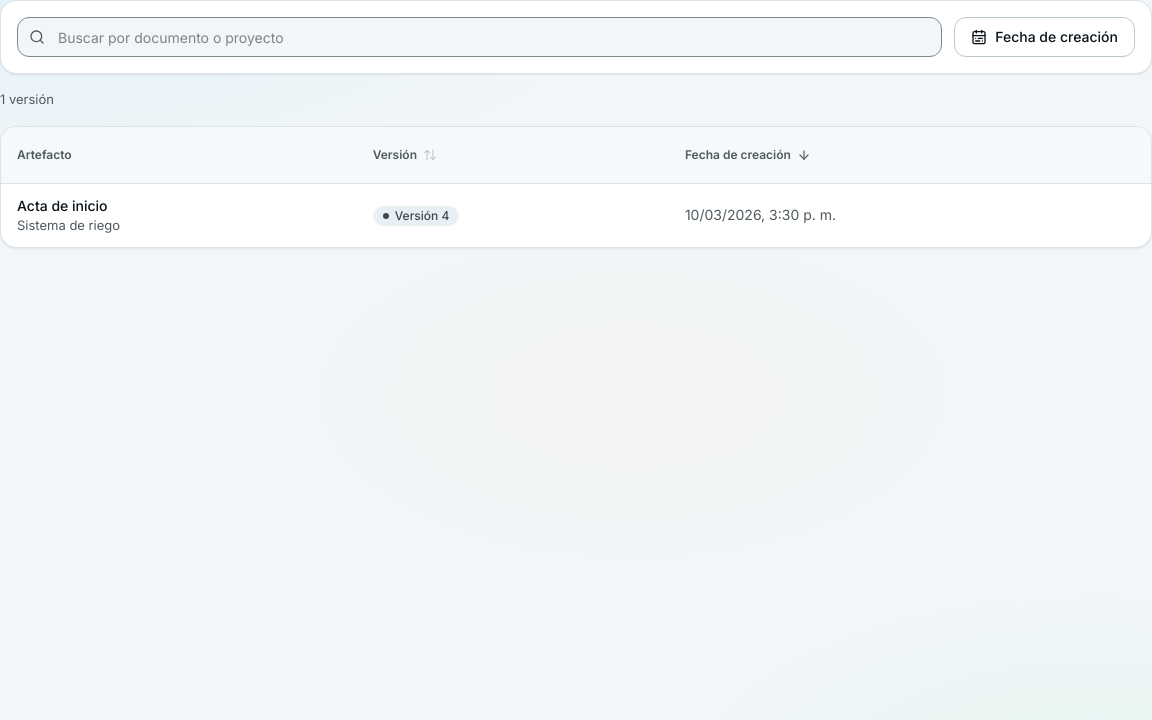
Test: ConsultarVersionesArtefactoAsesor › elegir un rango desde el botón de fechas consulta con el criterio y el botón muestra el rango
Expected: the table named "Versiones de artefactos" is shown, left=1, top=127, right=1151, bottom=247
Click the 1st button "Fecha de creación" at [1045, 37], box left=954, top=17, right=1135, bottom=57
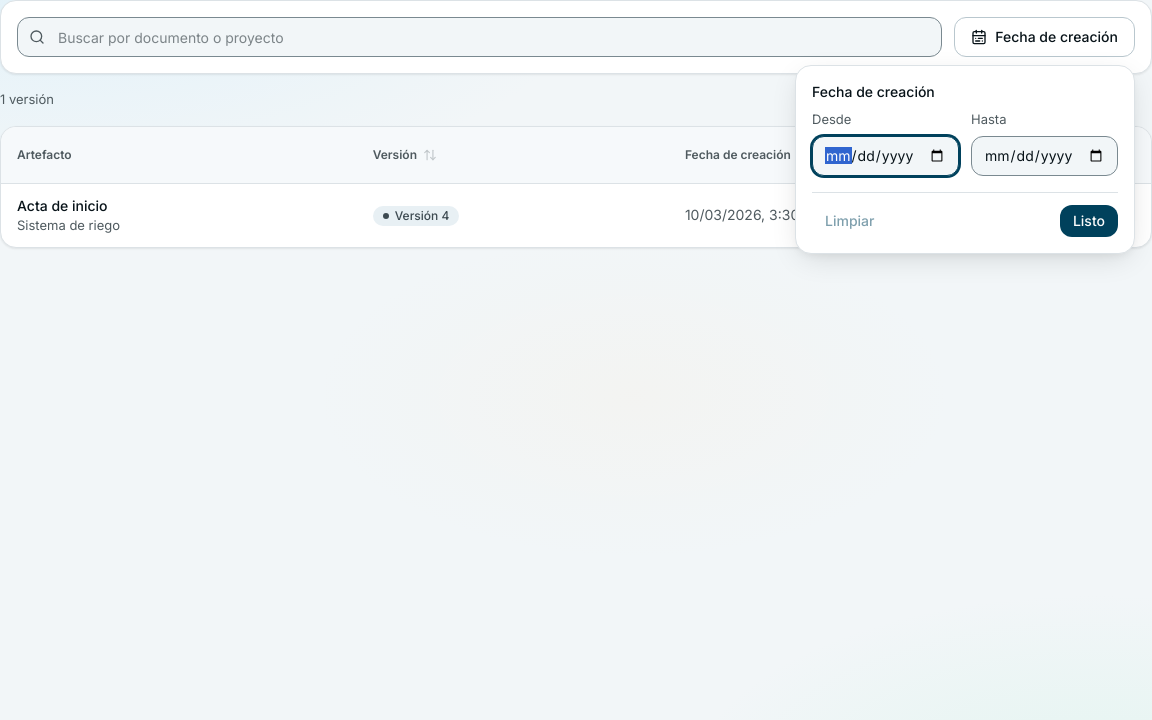
Type "2026-03-01" into the date field labelled "Desde" at [886, 156], box left=812, top=136, right=959, bottom=176
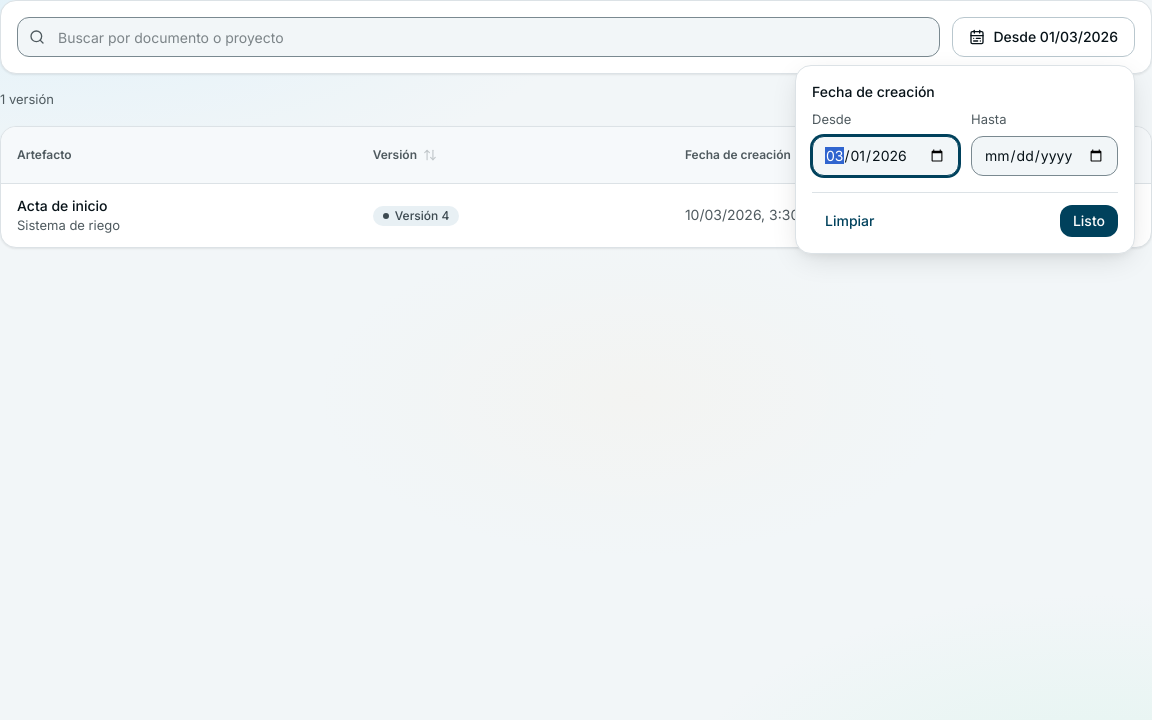
Type "2026-03-31" into the date field labelled "Hasta" at [1044, 156], box left=971, top=136, right=1118, bottom=176
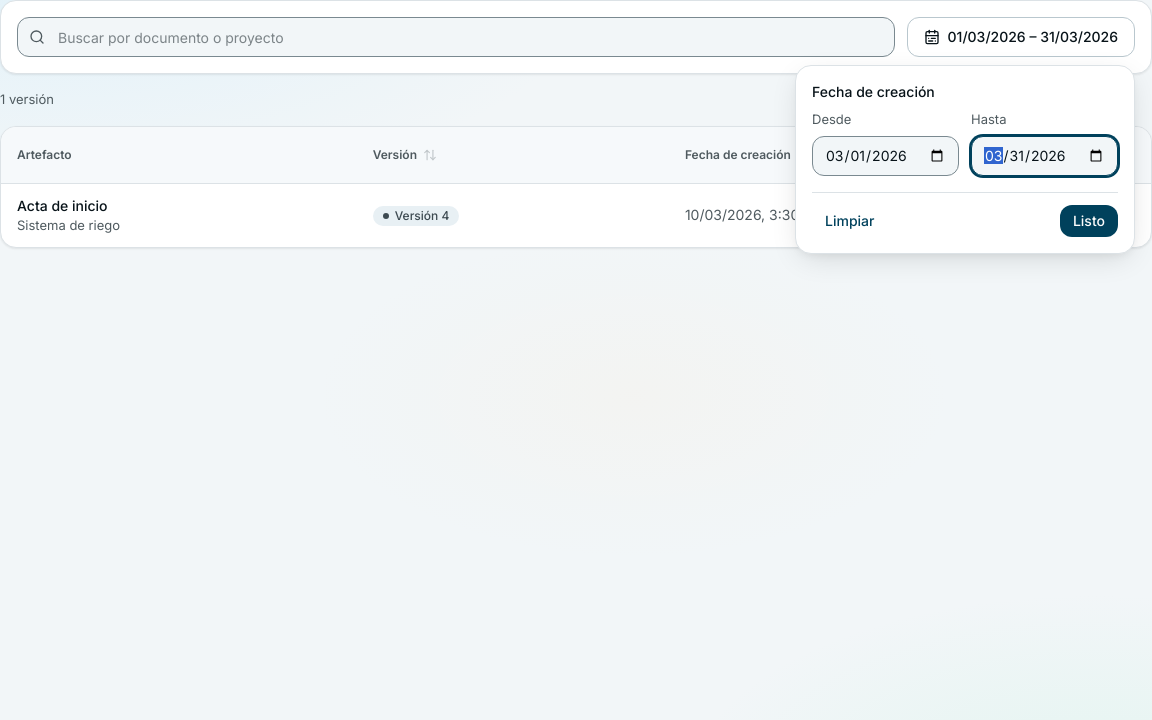
Now the button named "Fecha de creación: 01/03/2026 – 31/03/2026" is shown, box left=906, top=17, right=1135, bottom=57
